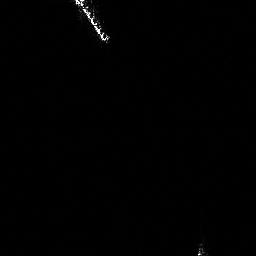ship: (71, 1, 111, 44)
